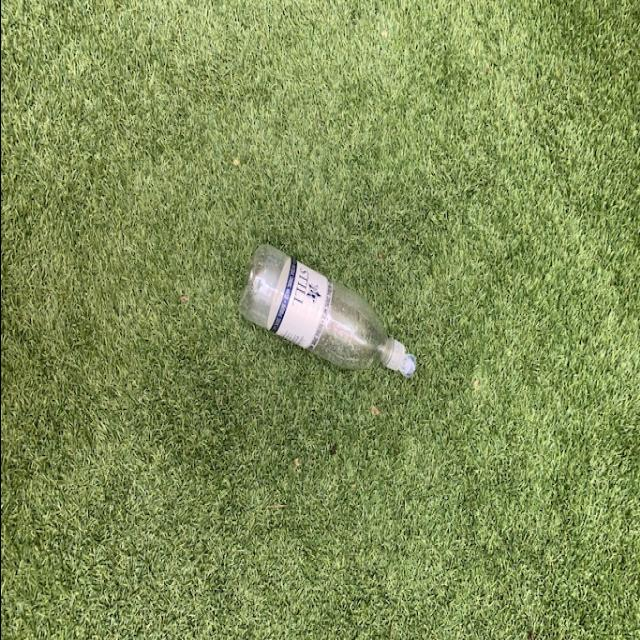litter: (237, 240, 414, 378)
